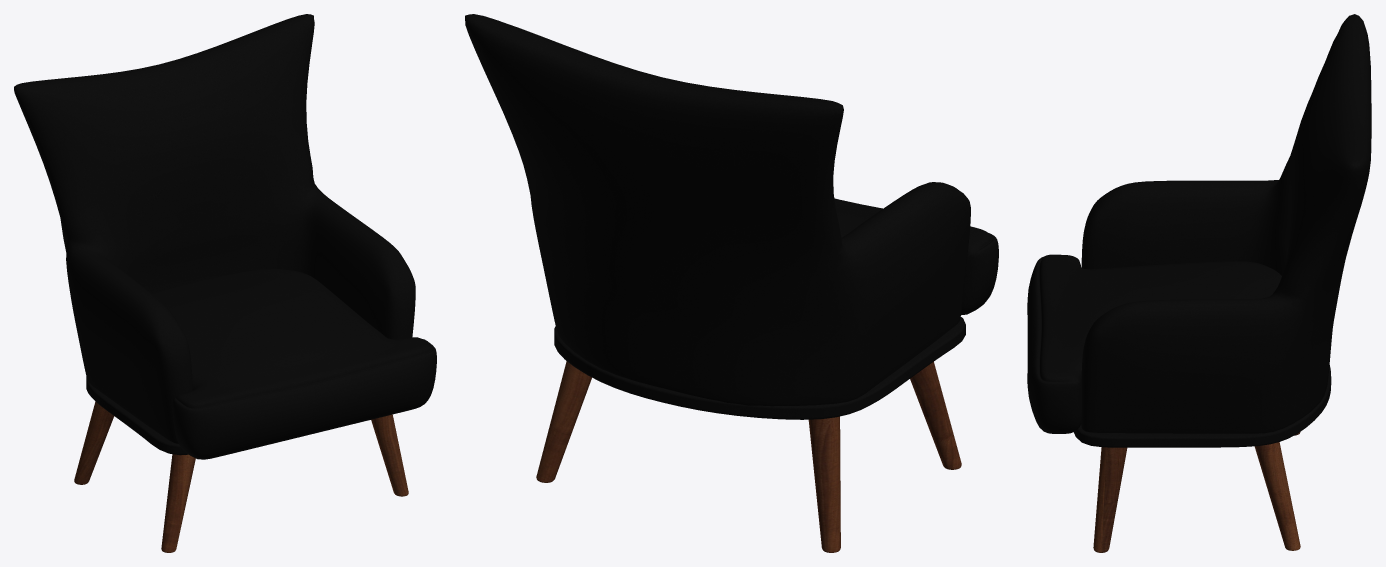
File: armchair_1.glb
The picture shows the model from 3 angles, left to right: view 1: azimuth 30°, elevation 25°; view 2: azimuth 150°, elevation 25°; view 3: azimuth 270°, elevation 25°; orthographic projection. The views are drawn at different scales.
Visible parts, largest first — view 1: Object_3, Object_2; view 2: Object_3, Object_2; view 3: Object_3, Object_2.
Boxes of the visible parts, <box> form: Object_3: <box>14,14,436,459</box>; Object_2: <box>74,401,408,552</box>; Object_3: <box>465,14,998,419</box>; Object_2: <box>536,361,961,552</box>; Object_3: <box>1027,14,1371,447</box>; Object_2: <box>1093,432,1300,552</box>.
Size of the model in its own units: 69.01 by 84.53 by 65.59.
2 materials, 2 textured.
